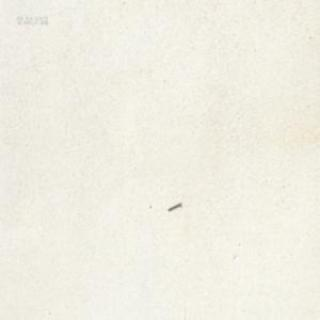Bolttrack_idkeyframe: (166, 201, 180, 211)
